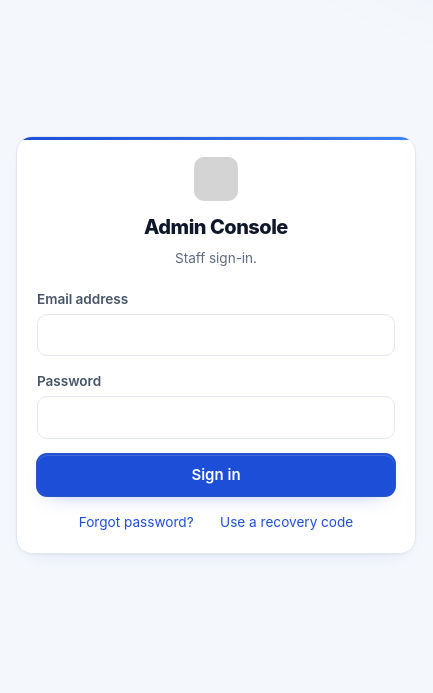
AdminLogin › shows the invalid-code message on totp_invalid but keeps the field
Type "a@b.co" into the field labelled "Email address". click: (216, 335)
box: [37, 314, 395, 356]
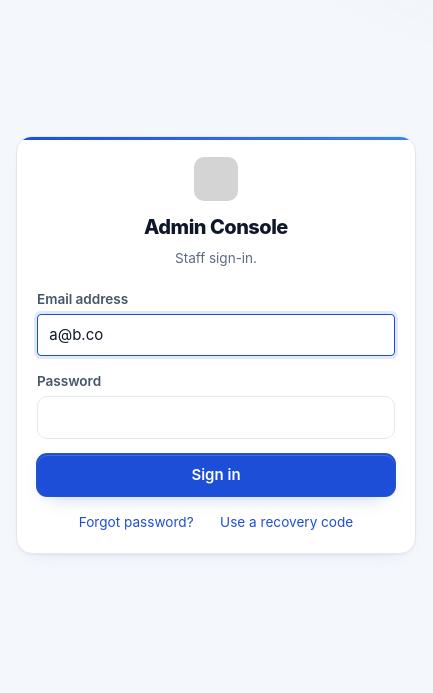
Type "pw" into the password field labelled "Password". click: (216, 418)
box: [37, 396, 395, 439]
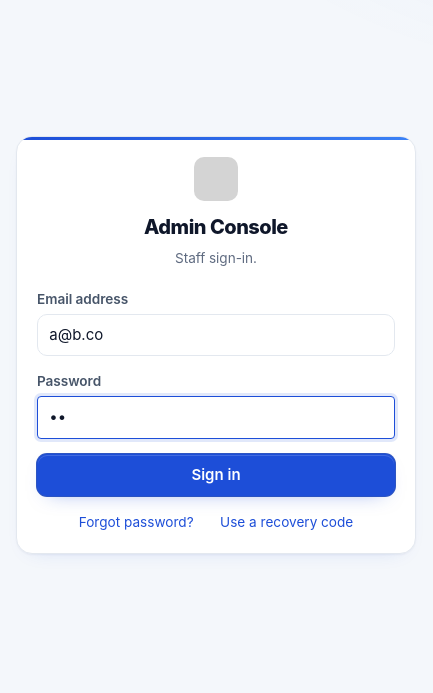
Click the button "Sign in". click: (216, 475)
box: [37, 454, 395, 496]
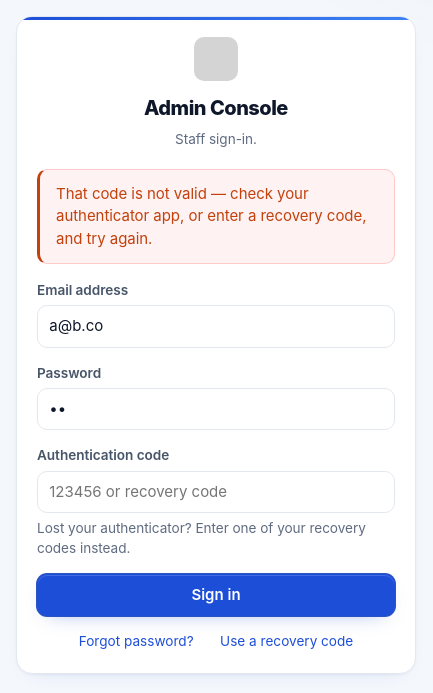
Now the field labelled "Authentication code" is shown, box [37, 470, 395, 513]
Now the message shows "not valid", box [56, 184, 366, 248]
